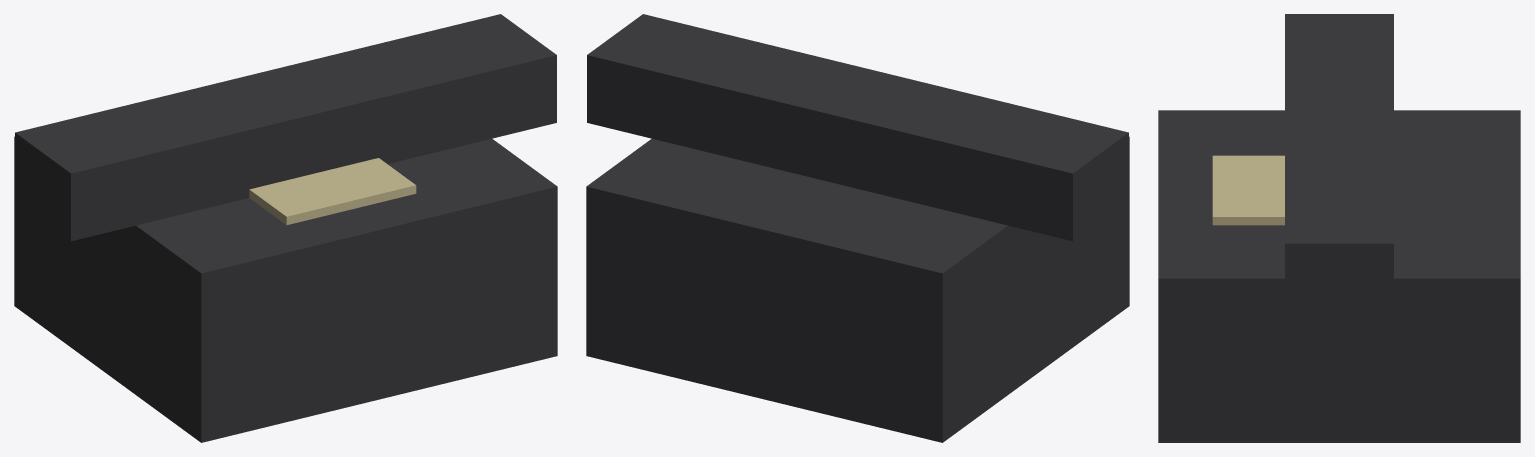
The model's file is telefone_acervo.glb.
3 views of the same model, side by side, from view 1: azimuth 30°, elevation 25°; view 2: azimuth 150°, elevation 25°; view 3: azimuth 270°, elevation 25° (orthographic). The views are drawn at different scales.
Parts seen in each view (by area): view 1: Corpo_0; view 2: Corpo_0; view 3: Corpo_0.
Part boxes in pixels (left/top/right/bottom): Corpo_0: left=14, top=14, right=557, bottom=442; Corpo_0: left=586, top=14, right=1129, bottom=442; Corpo_0: left=1158, top=14, right=1520, bottom=442.
Size of the model in its own units: 0.3 by 0.14 by 0.2.
